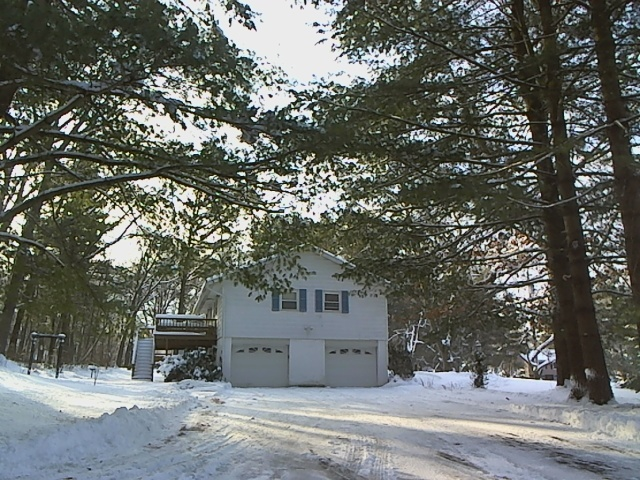Unploughed: (186, 373, 559, 473)
